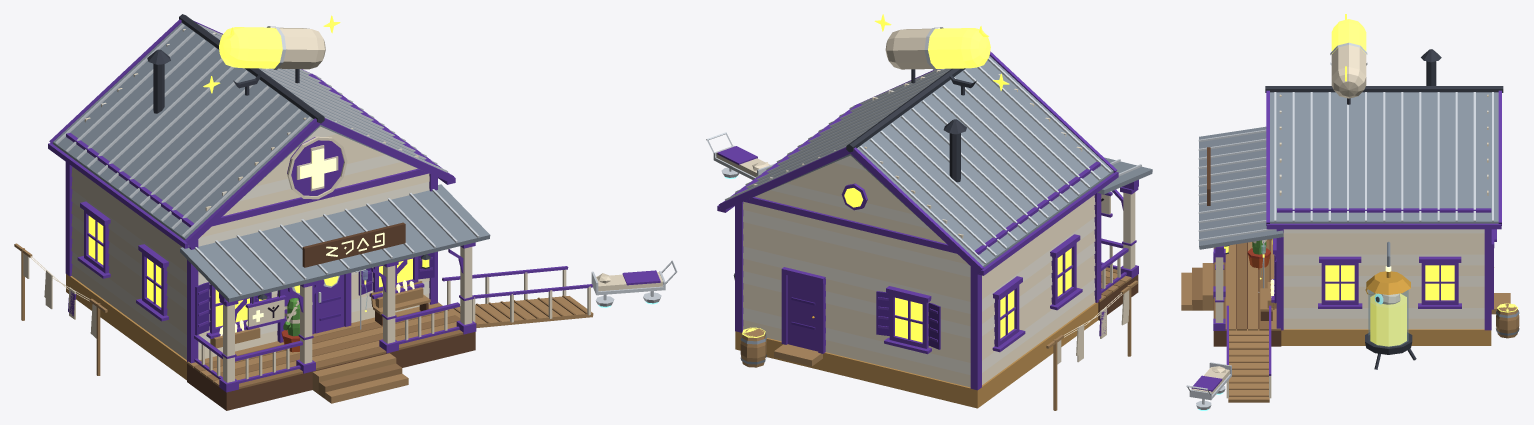
Rendered from Bldg_Medic.fbx.
3 views of the same model, side by side, from view 1: azimuth 30°, elevation 25°; view 2: azimuth 150°, elevation 25°; view 3: azimuth 270°, elevation 25° (orthographic). The views are drawn at different scales.
Parts seen in each view (by area): view 1: Bldg_Medic_Body, Bldg_Medic_Gurney, Bldg_Medic_Door_R, Bldg_Medic_Sign; view 2: Bldg_Medic_Body, Bldg_Medic_Gurney; view 3: Bldg_Medic_Body, Bldg_Medic_Gurney.
Boxes of the visible parts, <box> form: Bldg_Medic_Body: <box>14,14,593,410</box>; Bldg_Medic_Gurney: <box>591,260,677,307</box>; Bldg_Medic_Door_R: <box>314,274,344,333</box>; Bldg_Medic_Sign: <box>245,290,286,329</box>; Bldg_Medic_Body: <box>717,14,1152,410</box>; Bldg_Medic_Gurney: <box>706,132,775,179</box>; Bldg_Medic_Body: <box>1181,14,1519,402</box>; Bldg_Medic_Gurney: <box>1186,362,1231,410</box>.
Size of the model in its own units: 16.98 by 10.01 by 11.51.
